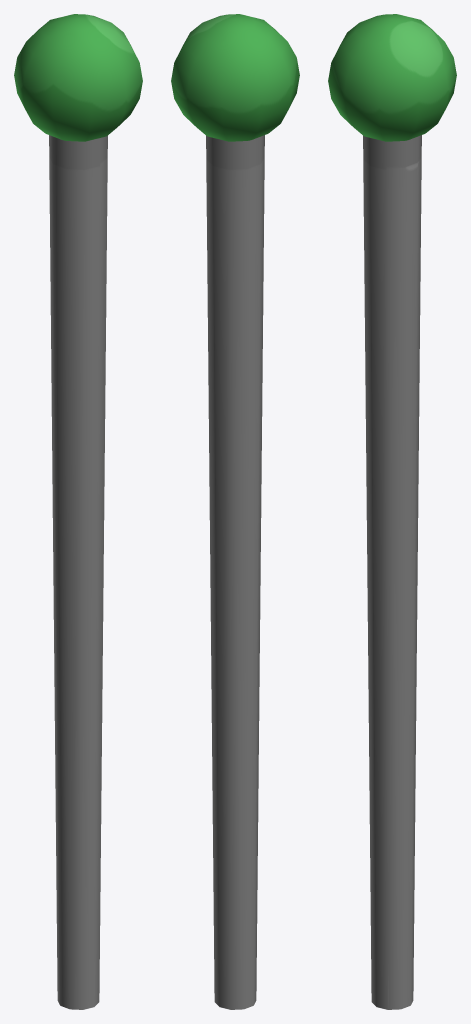
The model's file is NeedlePin.gltf.
3 renders of one model, left to right at view 1: azimuth 30°, elevation 25°; view 2: azimuth 150°, elevation 25°; view 3: azimuth 330°, elevation 25°, orthographic.
Visible parts, largest first — view 1: NeedlePin; view 2: NeedlePin; view 3: NeedlePin.
Part boxes in pixels (x1,y1,x2,y2): NeedlePin: (14, 14, 142, 1009); NeedlePin: (171, 14, 299, 1009); NeedlePin: (328, 14, 456, 1009).
Size of the model in its own units: 0.2906 by 2.43 by 0.2763.
Materials: 1 (1 with a texture image).
